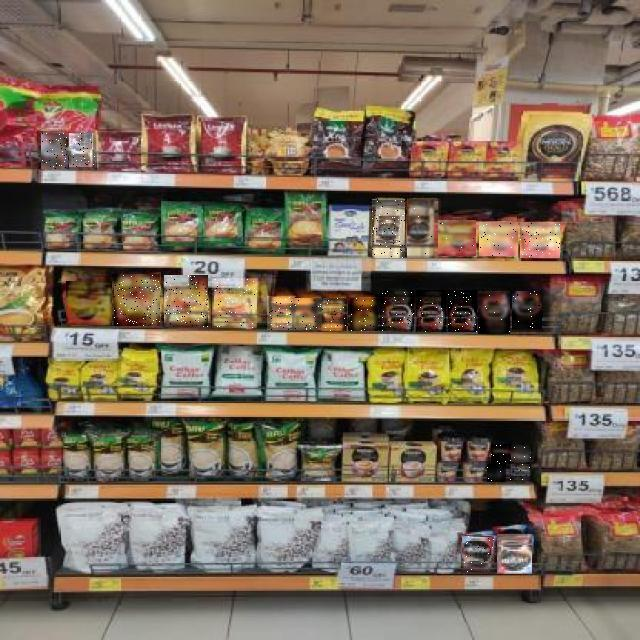Coffee: (115, 274, 161, 326), (164, 275, 208, 327), (212, 278, 257, 328), (66, 281, 112, 325), (372, 199, 405, 258), (408, 199, 438, 258), (520, 222, 560, 258), (380, 290, 414, 332), (497, 534, 532, 574), (478, 291, 510, 334), (439, 221, 477, 257), (479, 222, 518, 256), (417, 290, 447, 332), (512, 292, 542, 334), (448, 290, 477, 332), (463, 536, 495, 572), (267, 296, 296, 330), (42, 133, 68, 169), (70, 134, 96, 170), (350, 298, 378, 331), (321, 298, 349, 331), (294, 298, 322, 330), (491, 444, 511, 464), (488, 464, 508, 482), (510, 464, 530, 481), (511, 446, 531, 462)
